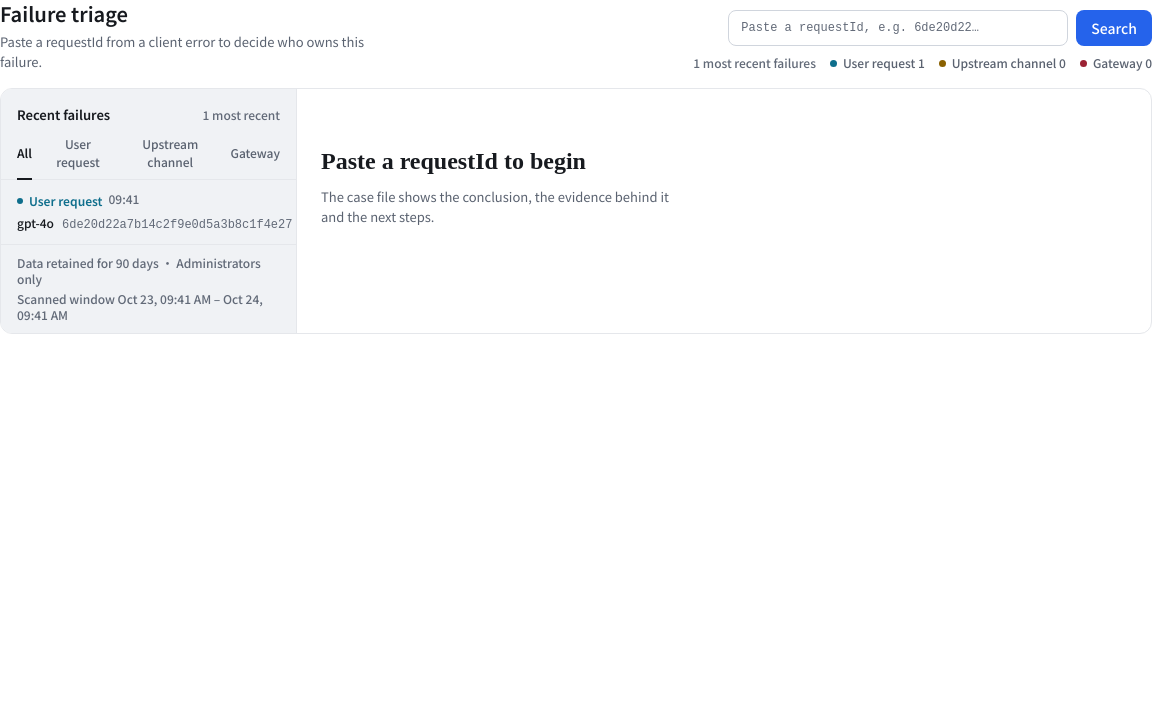
failure triage page › renders the conclusion, verdict stamp and evidence for a found request
Type "6de20d22a7b14c2f9e0d5a3b8c1f4e27" into the field labelled "requestId" at (898, 28), box [728, 10, 1068, 46]
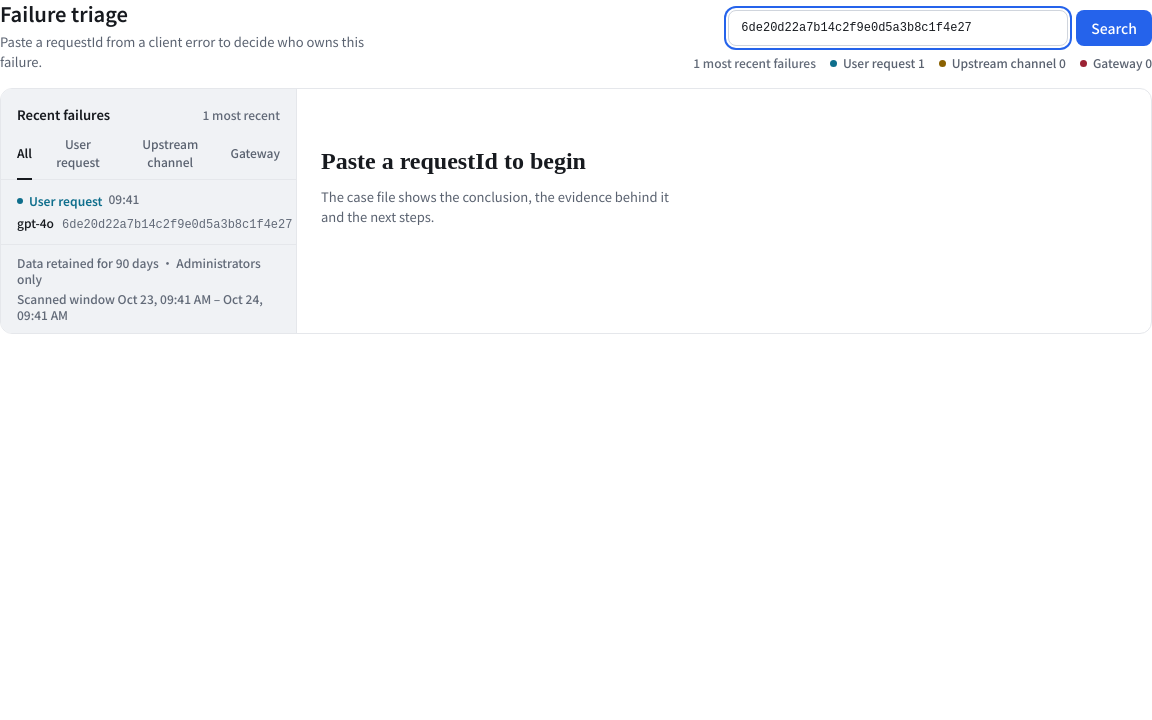
Click the button "Search" at (1114, 28), box [1076, 10, 1151, 46]
(page scrolled)
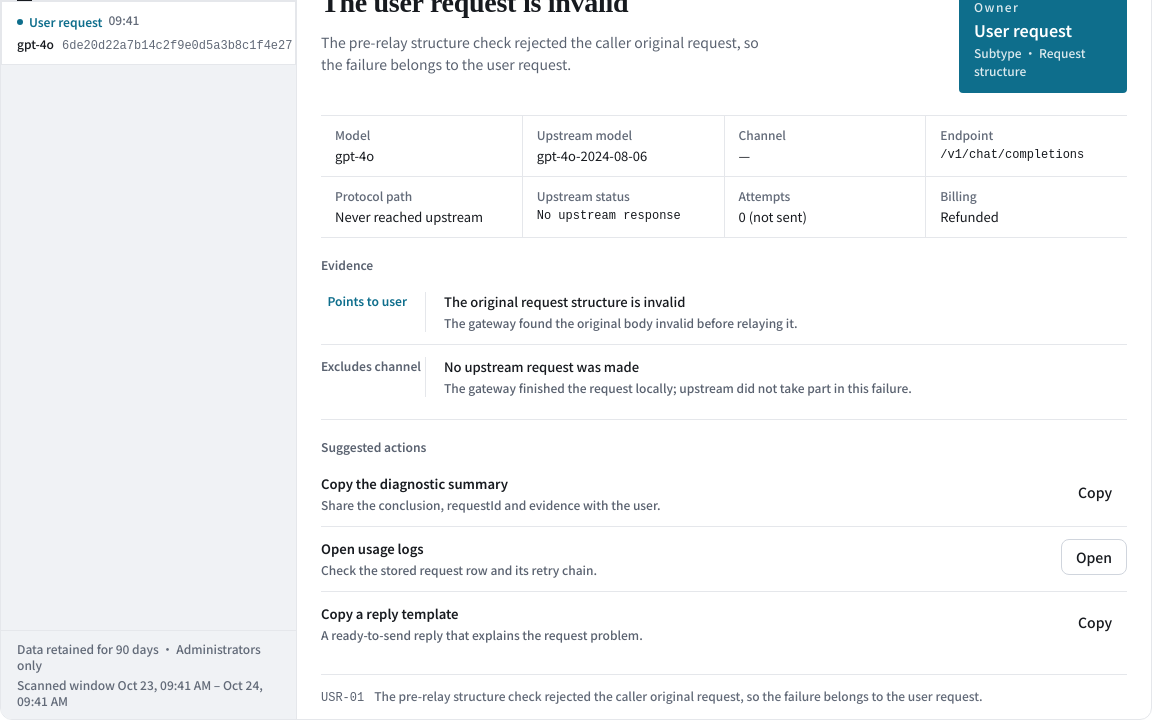
Expected: the element with test id "verdict-stamp" shows "User request", [974, 18, 1072, 42]
Expected: the list item with test id "evidence-row" that starts with "Points to user" is shown, [321, 280, 1127, 345]
Expected: the text "Points to user" is shown, [328, 292, 407, 309]
